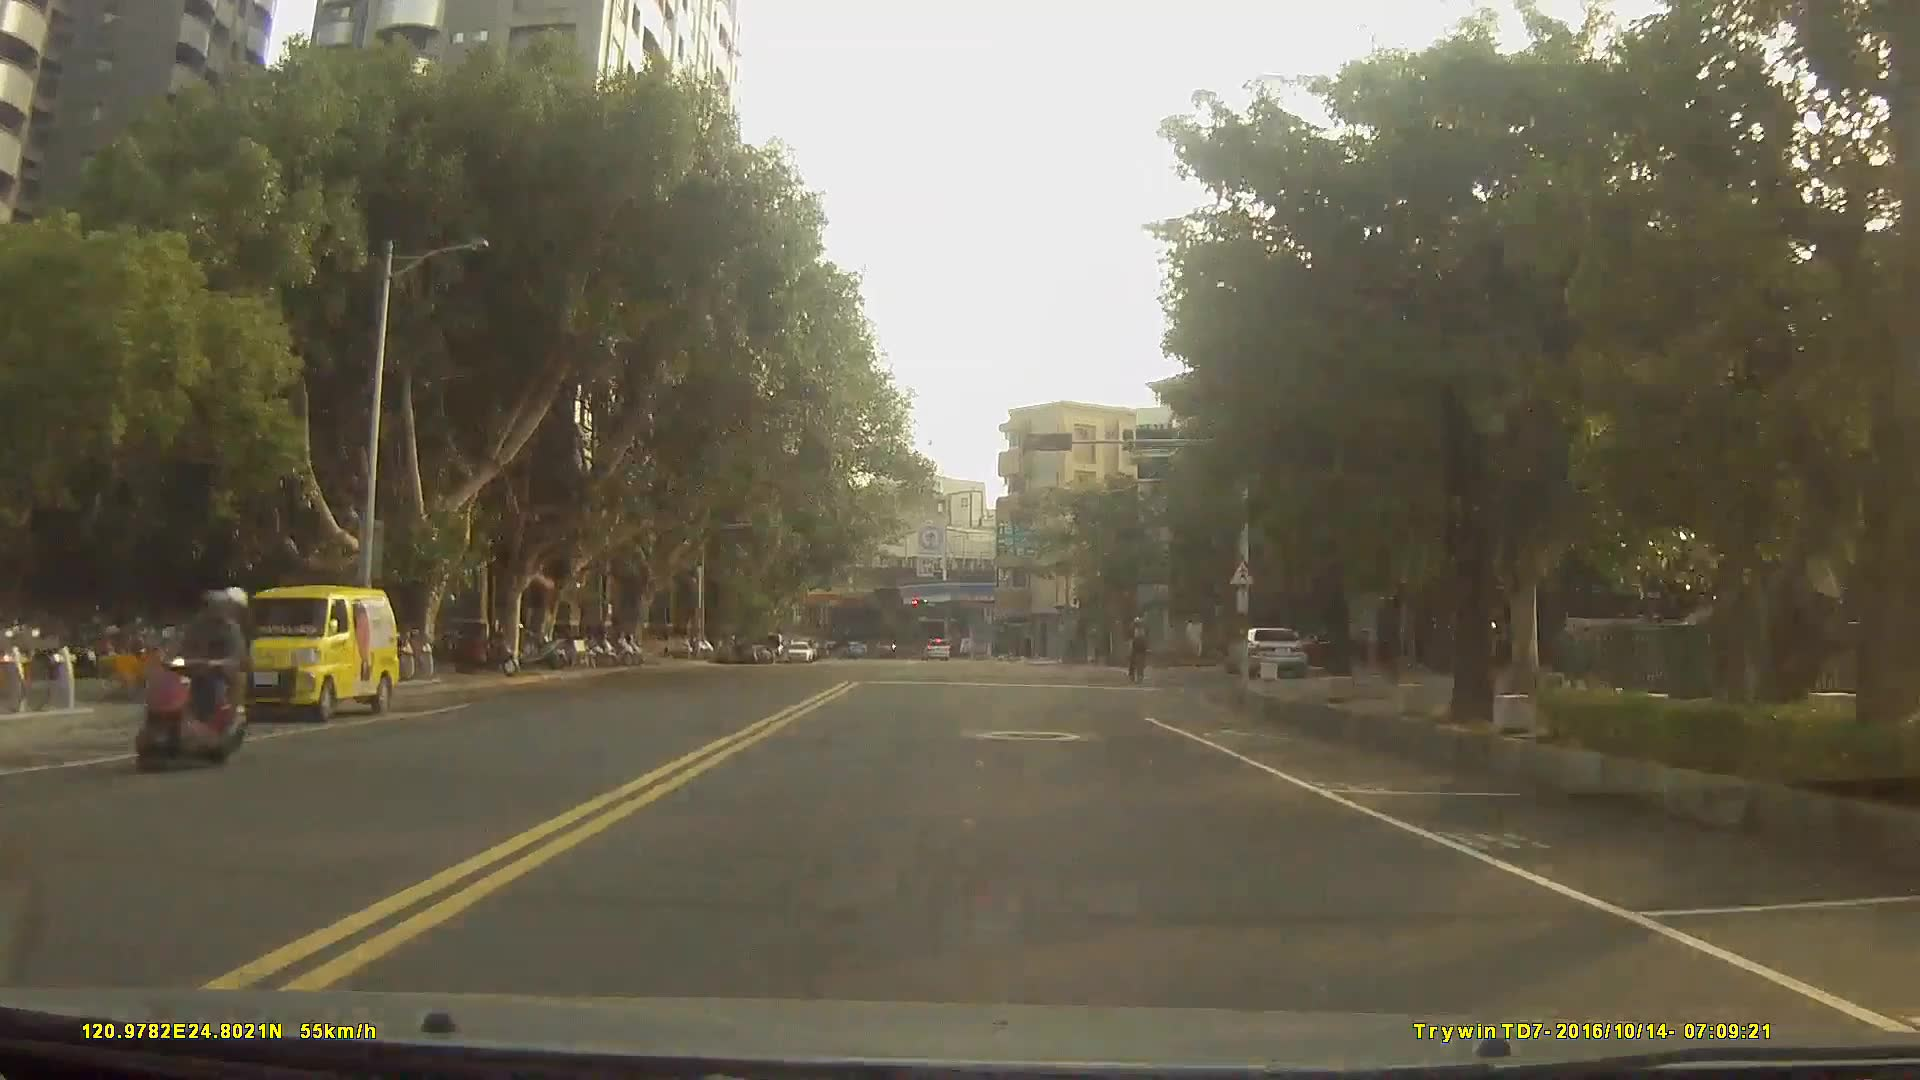pedestrian: (1186, 617, 1210, 682)
rider: (135, 584, 259, 771), (1124, 618, 1151, 680)
vehicle: (1220, 625, 1310, 678), (922, 635, 951, 661), (783, 640, 814, 662)
